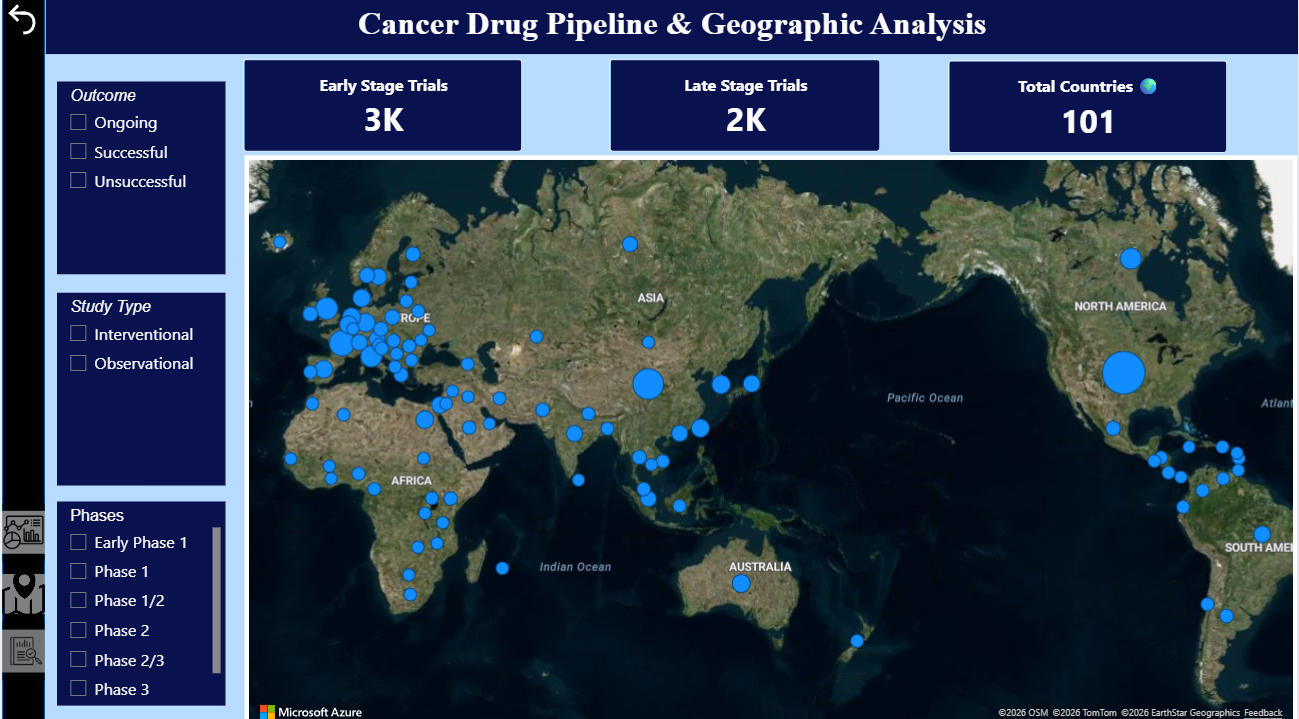

Layout of this report page (visuals, bound fields, positions):
{"tool":"powerbi","page":{"name":"Geographic Analysis","canvas":[1280,720],"ordinal":1},"visuals":[{"type":"textbox","box":[42.7,0,1237.3,54],"z":0},{"type":"shape","box":[0,0,42.7,719.6],"z":1000},{"type":"cardVisual","fields":{"Data":["TABLE.Early Stage Trials"]},"box":[220.8,42.2,310.1,126.7],"z":2000},{"type":"cardVisual","fields":{"Data":["TABLE.Late Stage Trials"]},"box":[582.7,42.2,302.8,126.7],"z":3000},{"type":"cardVisual","fields":{"Data":["TABLE.Total Countries 🌍"]},"box":[916.9,43.4,310.1,126.7],"z":4000},{"type":"azureMap","fields":{"Category":["Clinical Trials Data.Country"],"Size":["TABLE.Total Trials 🔢"]},"box":[240.1,154.4,1040,565.8],"z":5000},{"type":"slicer","fields":{"Values":["Clinical Trials Data.Outcome "]},"box":[54.3,82,166.5,190.6],"z":6000},{"type":"slicer","fields":{"Values":["Clinical Trials Data.Study Type"]},"box":[54.3,289.5,166.5,190.6],"z":7000},{"type":"slicer","fields":{"Values":["Clinical Trials Data.Phases"]},"box":[54.3,495.8,166.5,201.5],"z":8000},{"type":"actionButton","box":[0,0,100,40],"z":9000},{"type":"actionButton","box":[0,615.1,42.8,58.7],"z":10000},{"type":"actionButton","box":[0,567.4,42.8,39.1],"z":11000},{"type":"actionButton","box":[0,497.7,42.8,58.7],"z":12000}]}

Visuals, with their boxes on the page's 1280x720 design canvas (x1, y1, x2, y2). These are canvas units, not pixel positions in the 1299x719 screenshot, which may show the page scaled, cropped or inside an application window:
textbox: (x1=43, y1=0, x2=1280, y2=54)
shape: (x1=0, y1=0, x2=43, y2=720)
cardVisual - TABLE.Early Stage Trials: (x1=221, y1=42, x2=531, y2=169)
cardVisual - TABLE.Late Stage Trials: (x1=583, y1=42, x2=886, y2=169)
cardVisual - TABLE.Total Countries 🌍: (x1=917, y1=43, x2=1227, y2=170)
azureMap - Clinical Trials Data.Country x TABLE.Total Trials 🔢: (x1=240, y1=154, x2=1280, y2=720)
slicer - Clinical Trials Data.Outcome : (x1=54, y1=82, x2=221, y2=273)
slicer - Clinical Trials Data.Study Type: (x1=54, y1=290, x2=221, y2=480)
slicer - Clinical Trials Data.Phases: (x1=54, y1=496, x2=221, y2=697)
actionButton: (x1=0, y1=0, x2=100, y2=40)
actionButton: (x1=0, y1=615, x2=43, y2=674)
actionButton: (x1=0, y1=567, x2=43, y2=606)
actionButton: (x1=0, y1=498, x2=43, y2=556)
